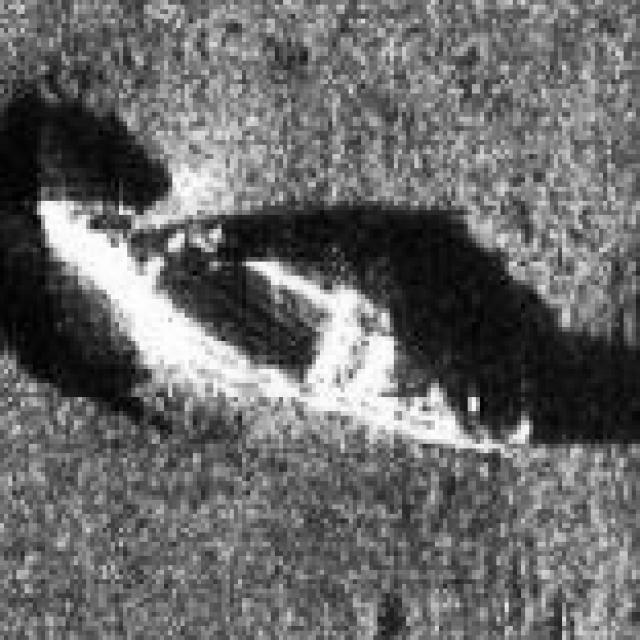ship: (25, 173, 529, 467)
